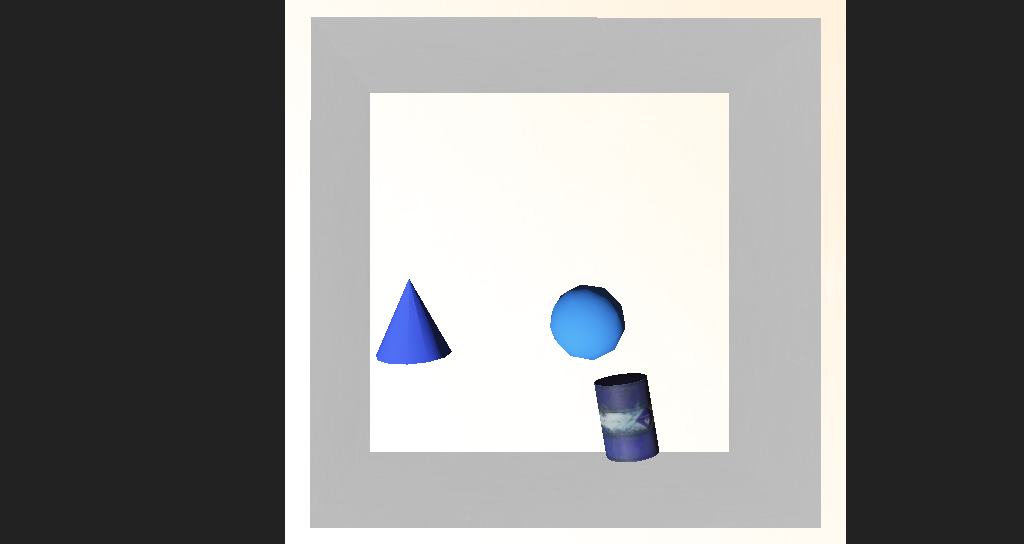cone: (542, 324, 603, 382)
cylinder: (354, 267, 428, 324)
sphere: (509, 272, 569, 320)
